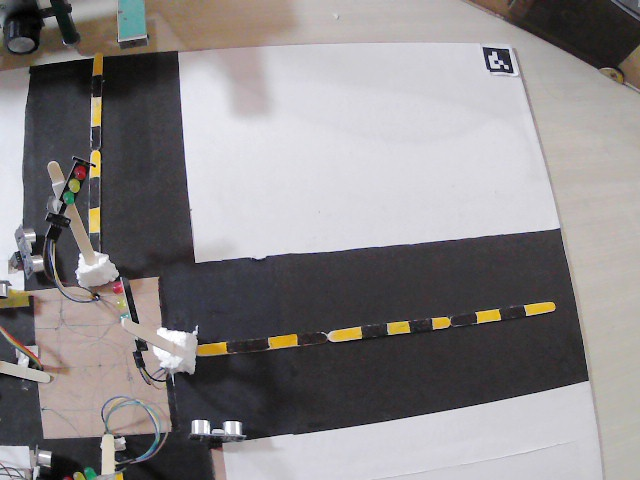aruco_marker: (478, 43, 519, 79)
black_strip: (227, 337, 269, 354), (84, 177, 102, 204), (497, 303, 525, 318), (86, 124, 104, 147), (297, 330, 329, 342), (87, 75, 103, 96), (451, 313, 481, 324), (362, 324, 389, 336), (411, 318, 432, 333), (90, 231, 100, 249)
mixed_lane: (197, 289, 578, 356), (86, 53, 103, 235)
traffic_light: (44, 156, 90, 221), (106, 270, 140, 332), (50, 461, 118, 480)
uno_breadboard: (3, 223, 46, 279), (188, 417, 246, 442), (27, 444, 53, 479), (0, 278, 11, 298)
yellow_strip: (328, 326, 360, 341), (86, 150, 102, 180), (386, 318, 408, 336), (197, 340, 225, 354), (270, 333, 296, 348), (89, 97, 101, 129), (86, 206, 101, 230), (524, 303, 552, 315), (429, 316, 451, 330), (90, 55, 105, 75), (476, 309, 498, 321)
